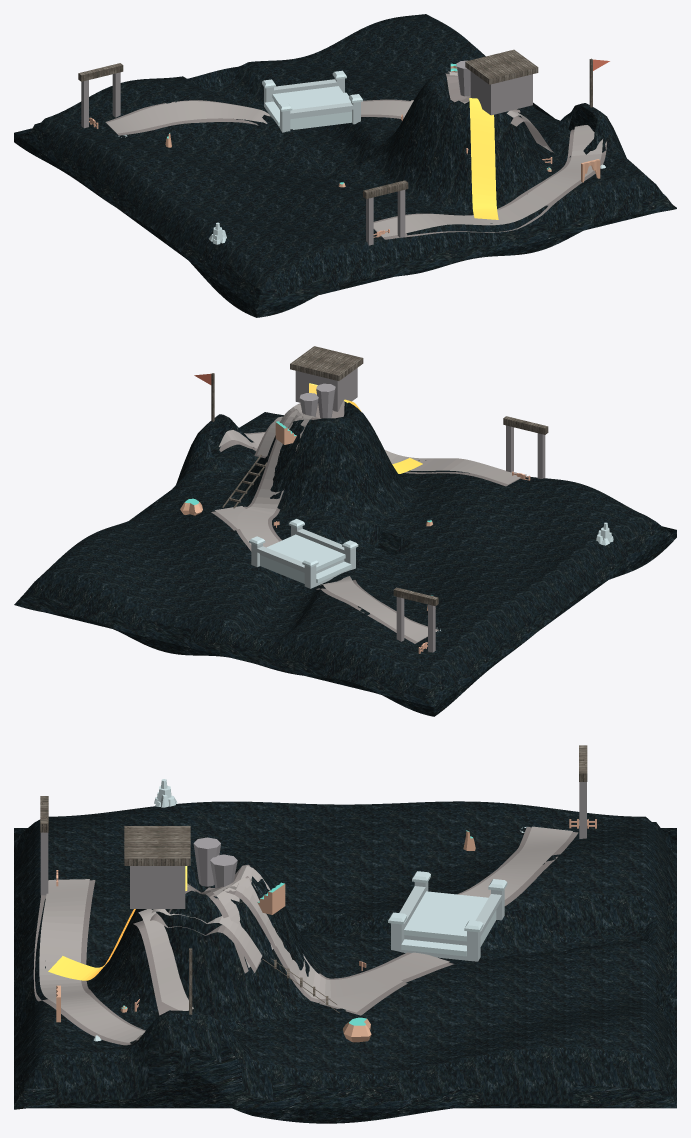
The model's file is world8_lava.glb.
The picture shows the model from 3 angles, top to bottom: view 1: azimuth 30°, elevation 25°; view 2: azimuth 150°, elevation 25°; view 3: azimuth 270°, elevation 25°; orthographic projection. The views are drawn at different scales.
Parts seen in each view (by area): view 1: W8_Terrain, bridge_stoneNarrow, W8_Road_7, W8_LavaFlow, W8_Road_0, W8_HutBase, W8_HutRoof, W8_RoadCase_7, W8_RoadCase_0, W8_Road_1, W8_RoadCase_1; view 2: W8_Terrain, bridge_stoneNarrow, W8_Road_1, W8_Road_7, W8_Road_0, W8_HutRoof, W8_HutBase, W8_RoadCase_1, W8_Smoke0; view 3: W8_Terrain, bridge_stoneNarrow, W8_Road_7, W8_Road_1, W8_HutRoof, W8_Road_0, W8_HutBase, W8_Road_6, W8_RoadCase_7, W8_RoadCase_1, W8_Smoke0, W8_LavaFlow (+9 smaller).
Part boxes in pixels (x1,y1,x2,y2): W8_Terrain: (14, 14, 676, 317); bridge_stoneNarrow: (262, 70, 362, 132); W8_Road_7: (373, 125, 602, 237); W8_LavaFlow: (469, 98, 498, 219); W8_Road_0: (107, 101, 270, 133); W8_HutBase: (470, 71, 532, 115); W8_HutRoof: (465, 49, 538, 84); W8_RoadCase_7: (373, 129, 606, 239); W8_RoadCase_0: (105, 100, 258, 135); W8_Road_1: (361, 71, 465, 116); W8_RoadCase_1: (361, 73, 469, 118); W8_Terrain: (14, 402, 676, 716); bridge_stoneNarrow: (249, 519, 358, 588); W8_Road_1: (237, 410, 316, 547); W8_Road_7: (219, 430, 520, 484); W8_Road_0: (320, 576, 436, 641); W8_HutRoof: (290, 346, 363, 380); W8_HutBase: (295, 368, 357, 411); W8_RoadCase_1: (235, 409, 319, 551); W8_Smoke0: (316, 383, 335, 418); W8_Terrain: (14, 801, 676, 1123); bridge_stoneNarrow: (388, 871, 507, 961); W8_Road_7: (39, 879, 144, 1042); W8_Road_1: (226, 865, 449, 999); W8_HutRoof: (124, 826, 190, 865); W8_Road_0: (460, 826, 572, 899); W8_HutBase: (130, 866, 185, 908); W8_Road_6: (138, 909, 193, 1010); W8_RoadCase_7: (33, 880, 145, 1045); W8_RoadCase_1: (204, 864, 453, 1002); W8_Smoke0: (193, 837, 220, 886); W8_LavaFlow: (48, 909, 135, 980).
Size of the model in its own units: 24 by 8.02 by 24.
17 materials, 3 textured.
